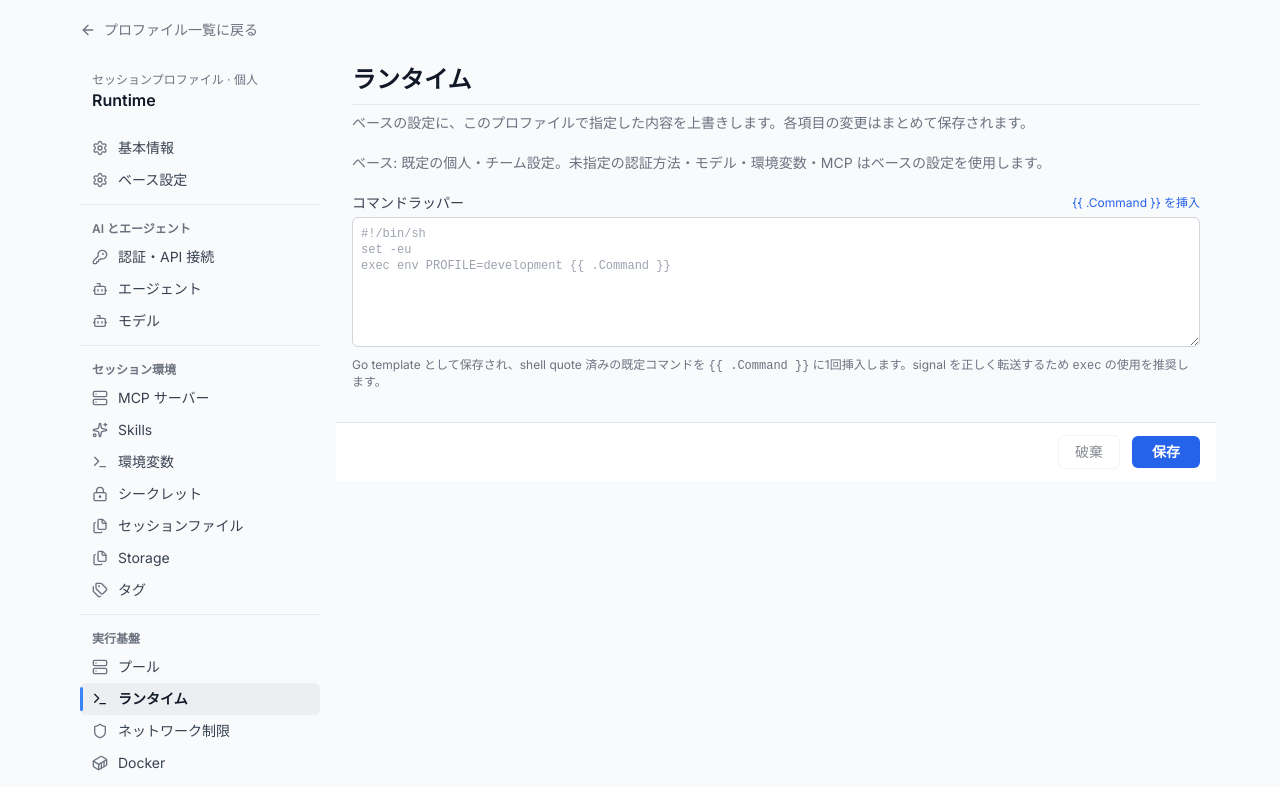
Test: SessionProfileEditor runtime › rejects a wrapper without exactly one command action
Replace the text in the text box labelled "コマンドラッパー" with "echo no command": point(776, 282) [352, 217, 1200, 347]
(page scrolled)
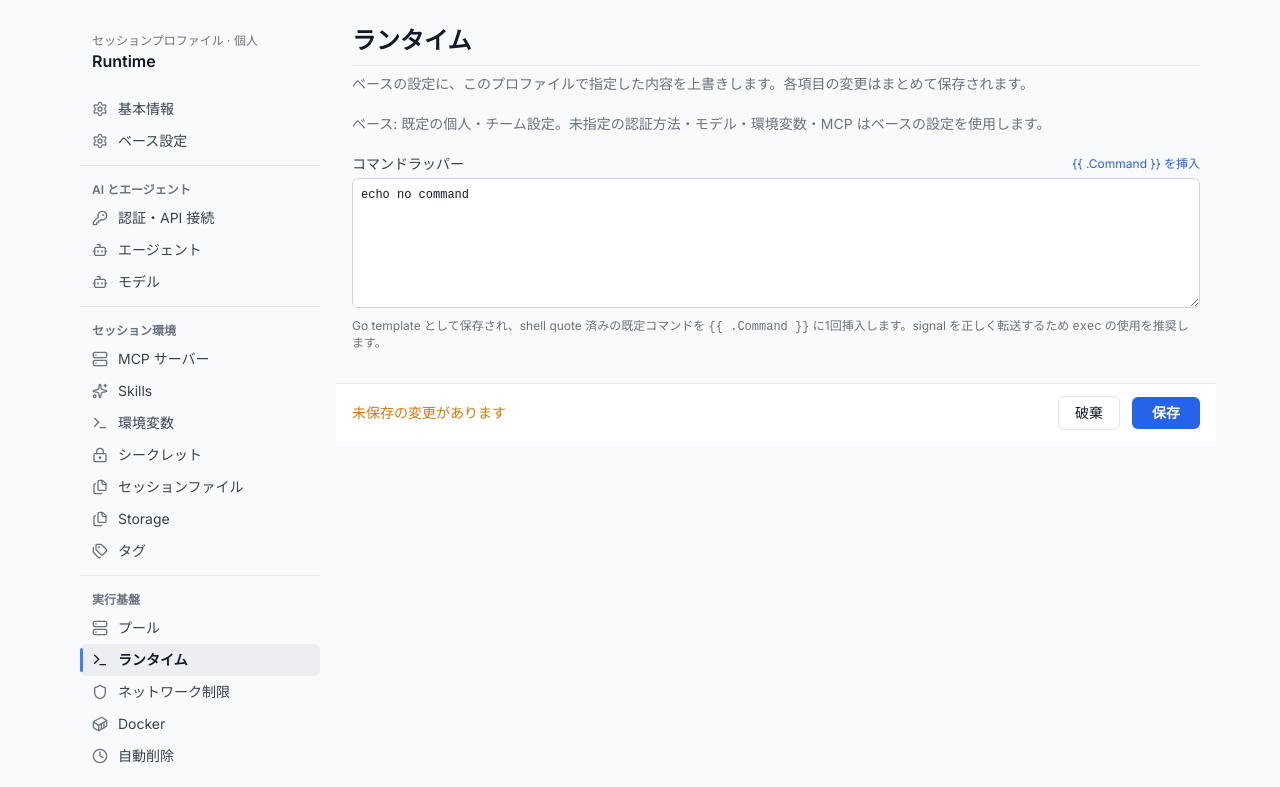
Submit the form named "コマンドラッパー", box [336, 25, 1216, 442]
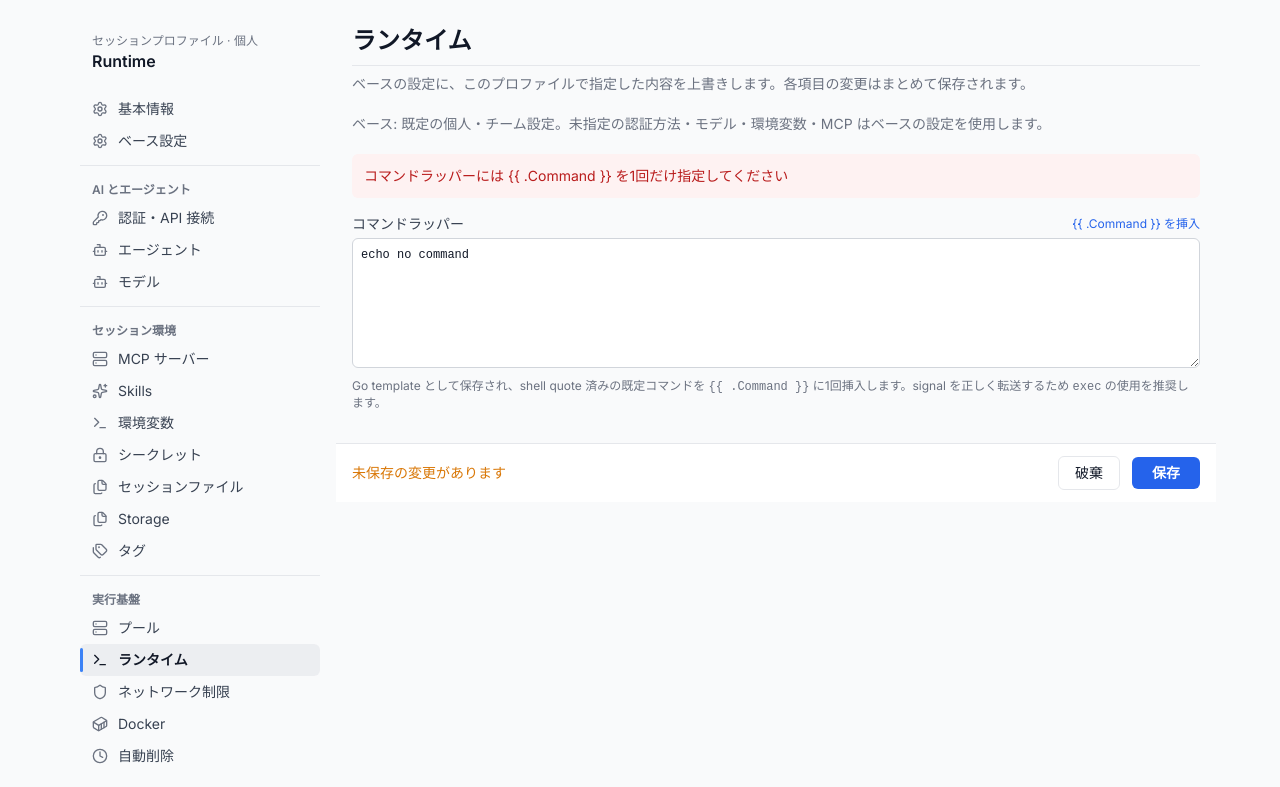
Expected: the message "コマンドラッパーには {{ .Command }} を1回だけ指定してください" is shown, [352, 154, 1200, 198]
